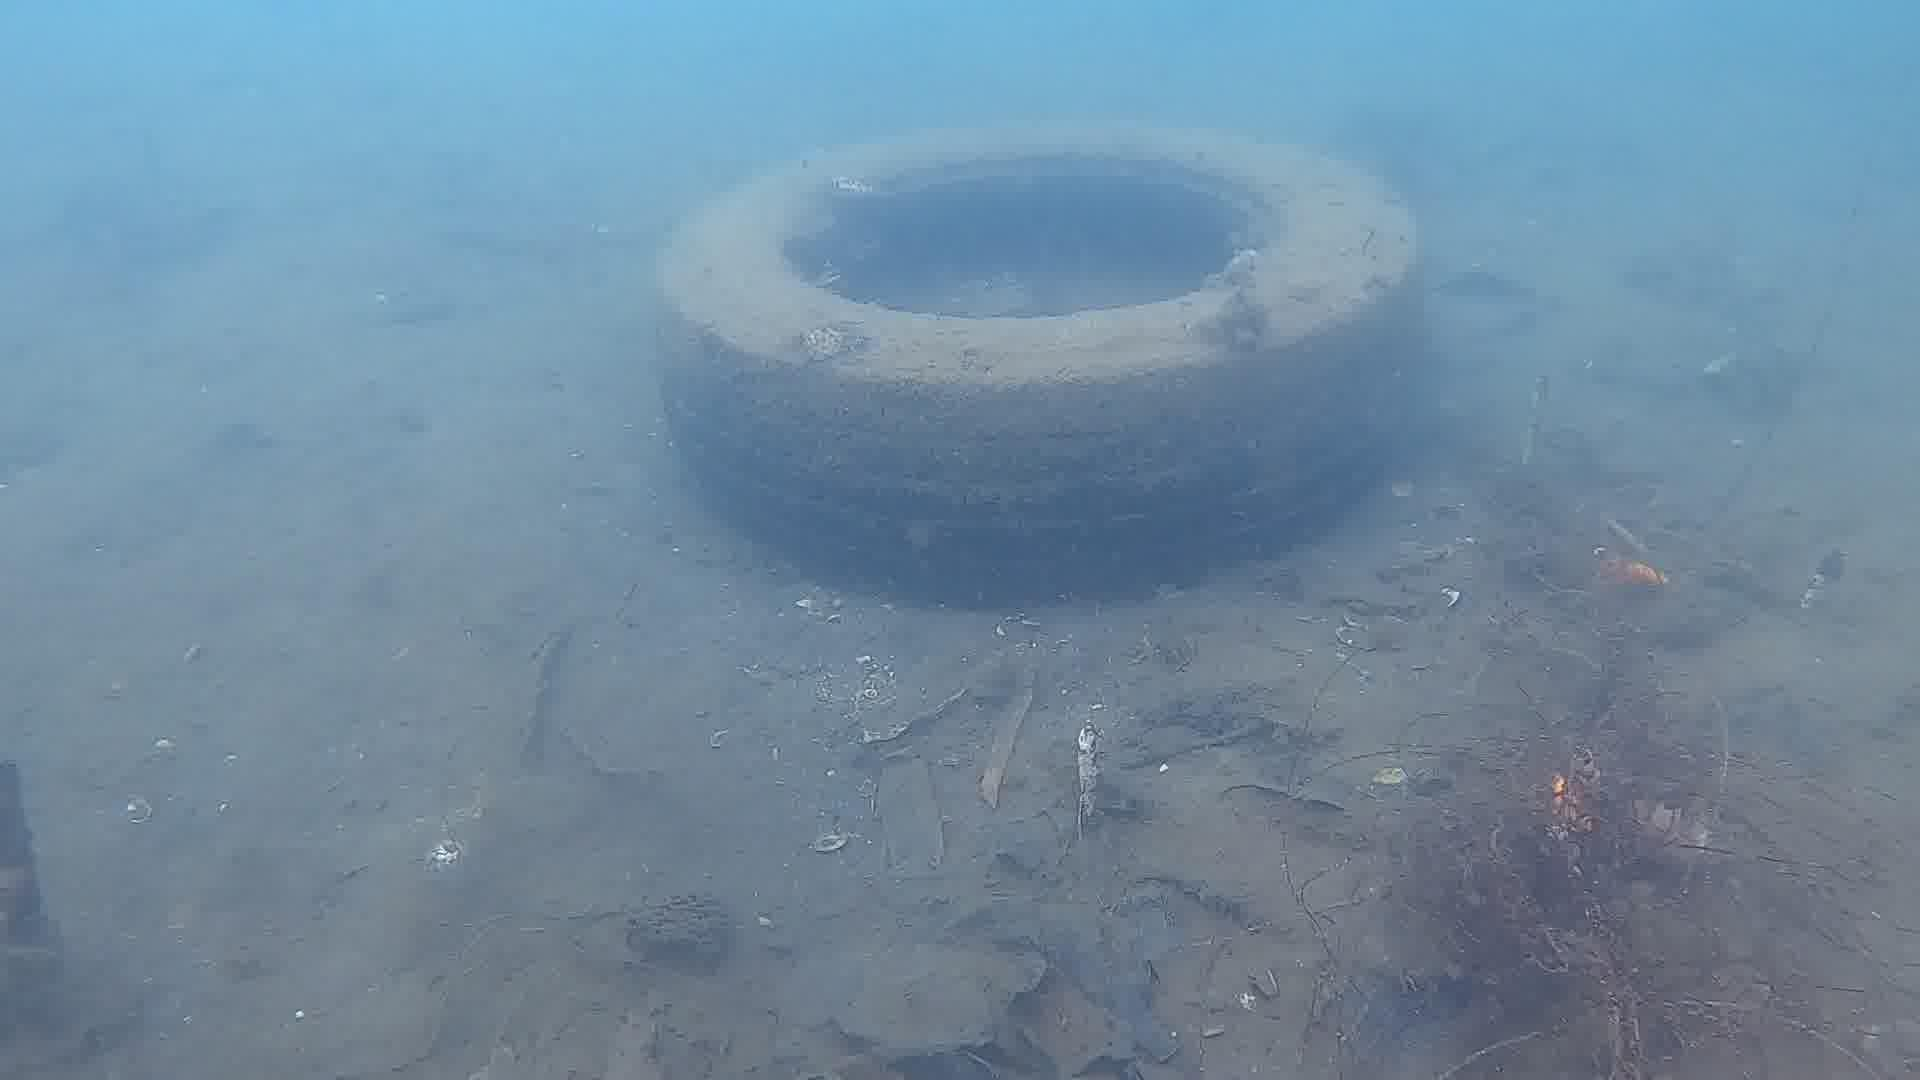tire: (650, 112, 1423, 611)
